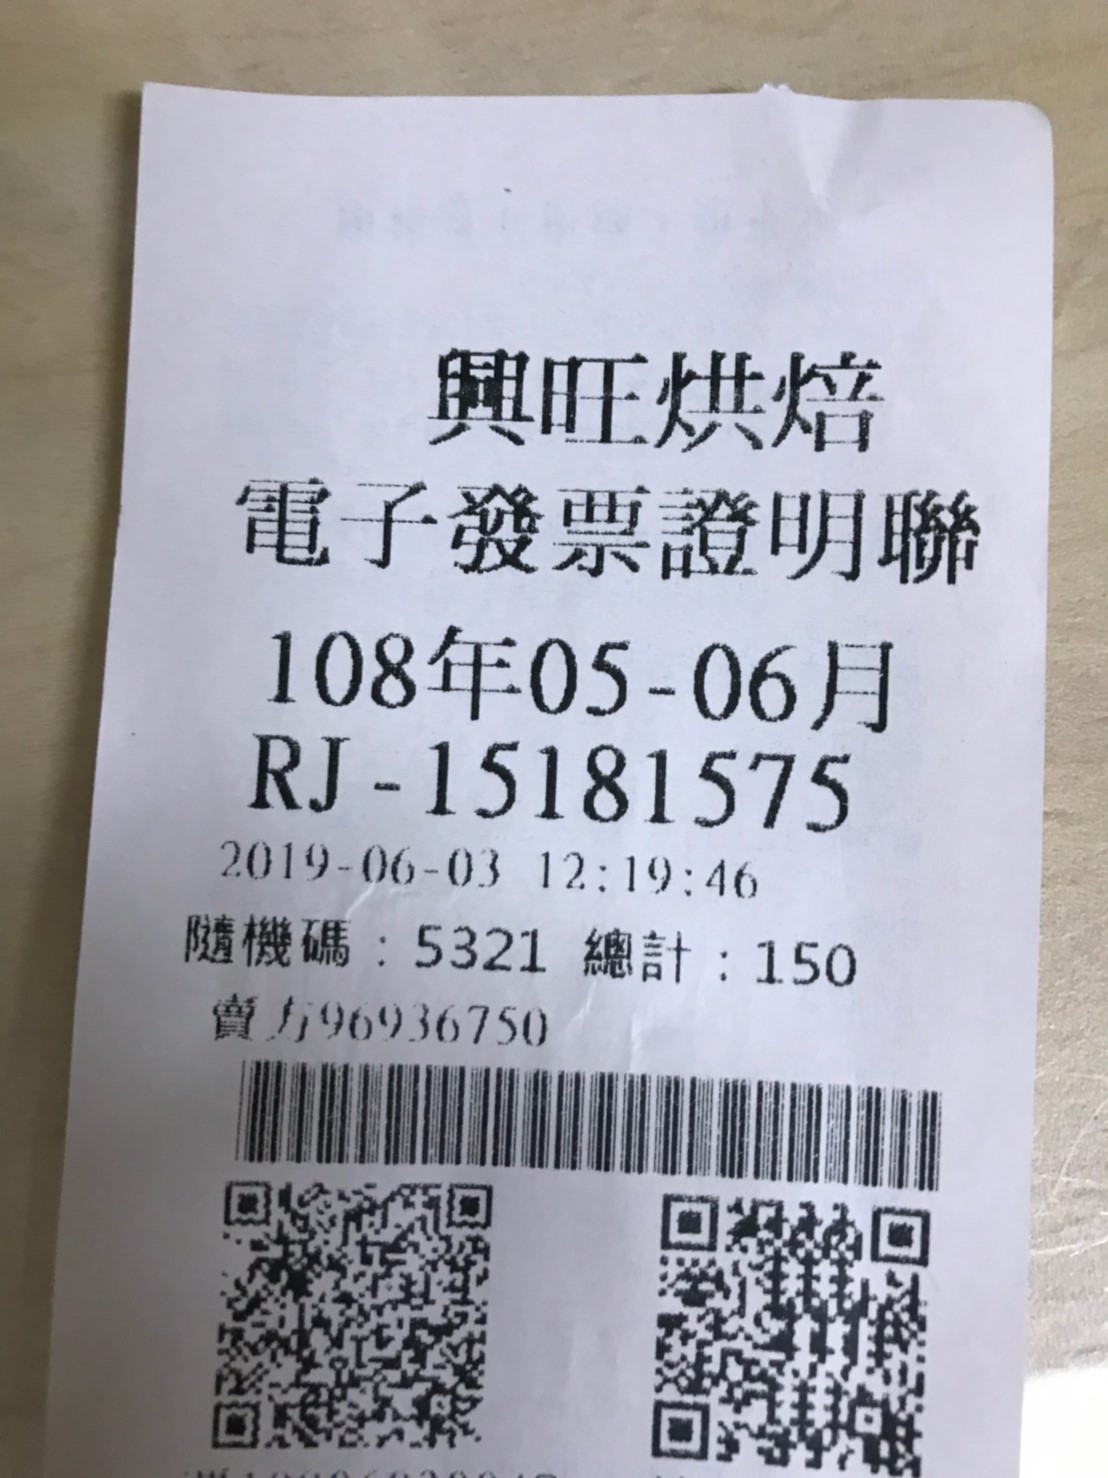Date_New: (267, 614, 899, 736)
Number_New: (422, 736, 852, 836)
